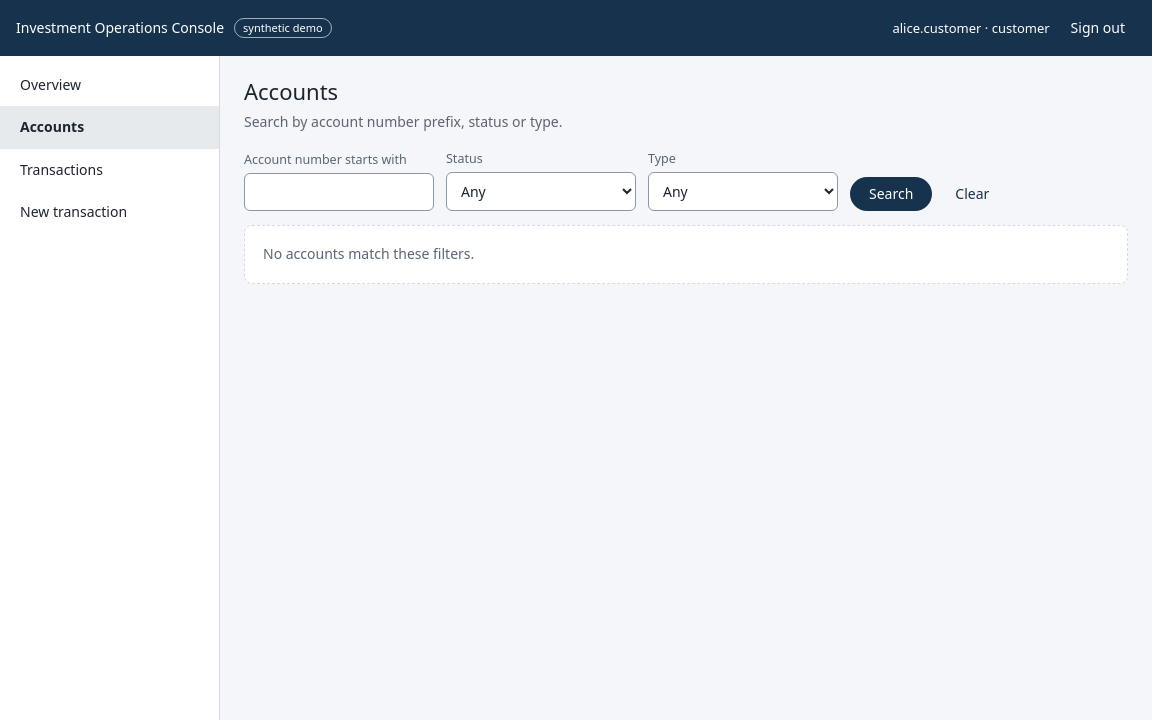
Shell role-aware navigation › shows who is signed in and signs out to the login page
The width and height of the screenshot is (1152, 720).
Expected: the text "alice.customer · customer" is shown, [892, 19, 1050, 37]
Click the button "Sign out". click: (1098, 28)
box: [1060, 11, 1136, 45]
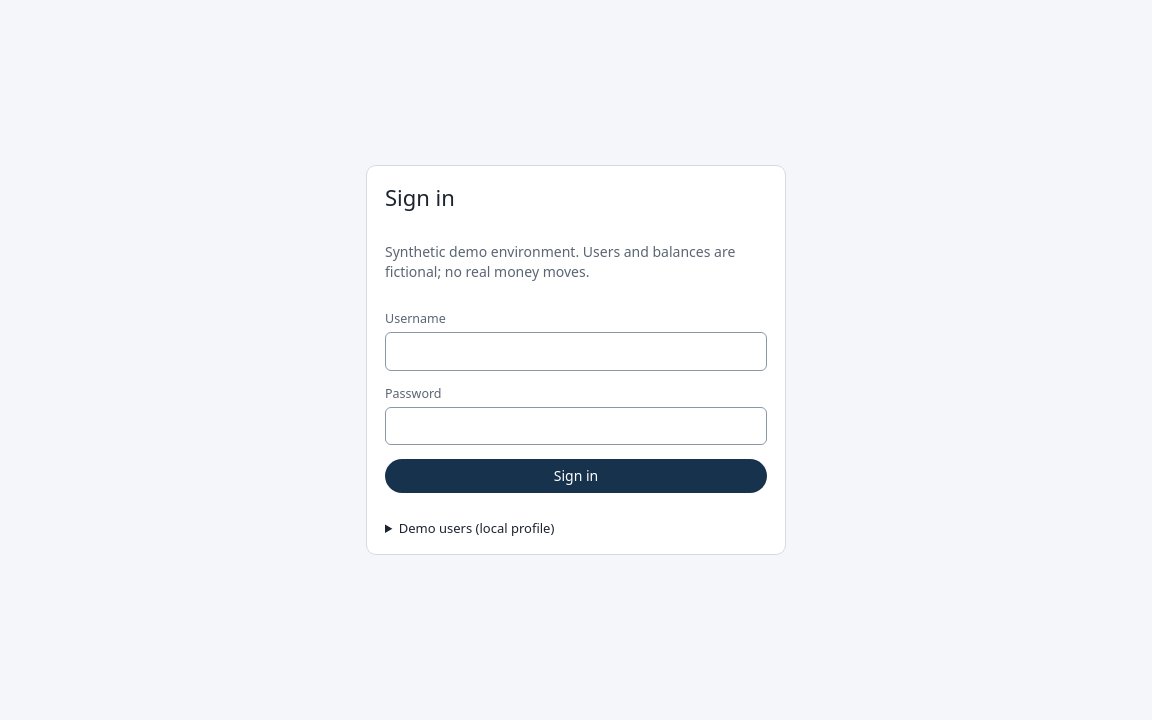
Expected: the heading "Sign in" is shown, [385, 182, 455, 212]
